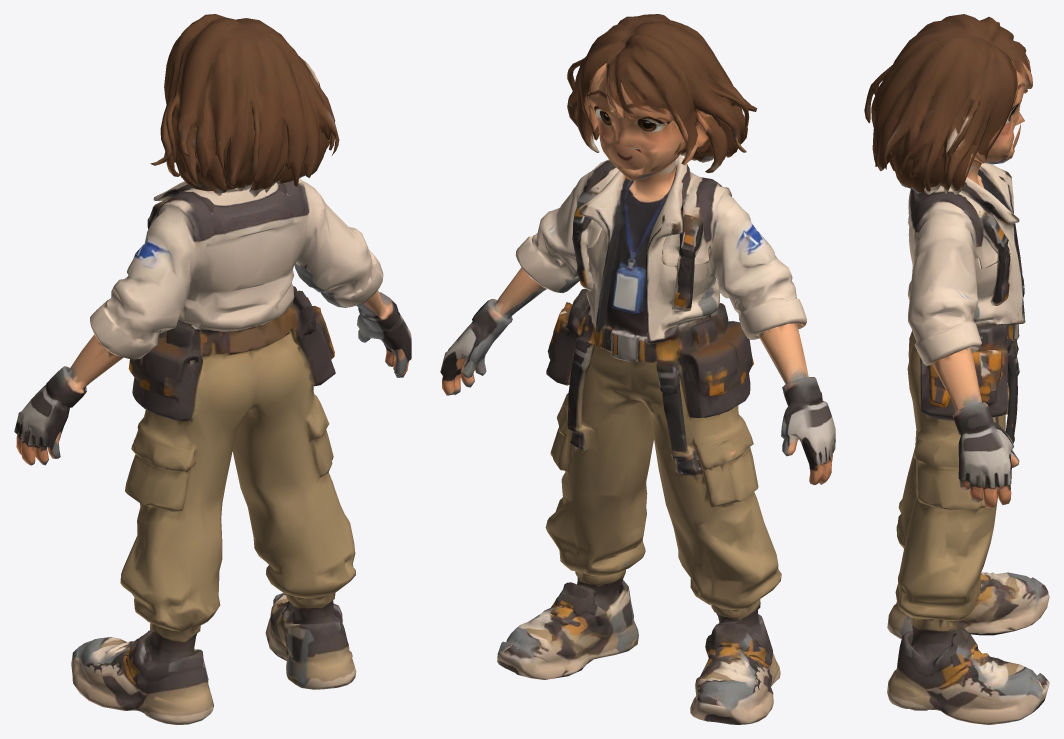
File: sora.glb
3 views of the same model, side by side, from view 1: azimuth 30°, elevation 25°; view 2: azimuth 150°, elevation 25°; view 3: azimuth 270°, elevation 25° (orthographic). The views are drawn at different scales.
Visible parts, largest first — view 1: tripo_node_eab66c1e-66bd-43b5-b95d-bab27fa7b91d; view 2: tripo_node_eab66c1e-66bd-43b5-b95d-bab27fa7b91d; view 3: tripo_node_eab66c1e-66bd-43b5-b95d-bab27fa7b91d.
Boxes of the visible parts, x1=… form: tripo_node_eab66c1e-66bd-43b5-b95d-bab27fa7b91d: x1=14, y1=14, x2=411, y2=724; tripo_node_eab66c1e-66bd-43b5-b95d-bab27fa7b91d: x1=440, y1=14, x2=835, y2=724; tripo_node_eab66c1e-66bd-43b5-b95d-bab27fa7b91d: x1=864, y1=14, x2=1049, y2=724.
Size of the model in its own units: 0.9437 by 1.55 by 0.4021.
Materials: 1 (1 with a texture image).
